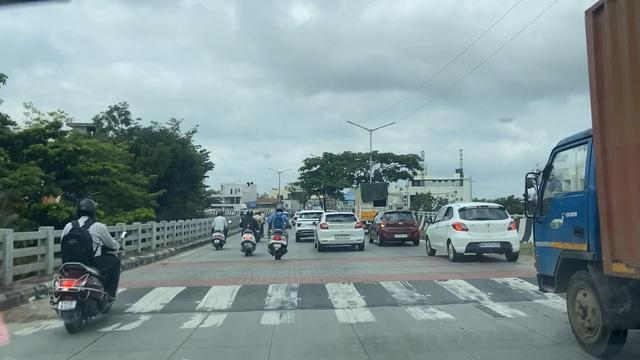LMV: (43, 201, 115, 337), (445, 198, 515, 253), (321, 211, 366, 248), (377, 207, 419, 244), (269, 201, 288, 260), (241, 208, 255, 253), (213, 211, 227, 250)
SpeedBump: (149, 262, 515, 331)
